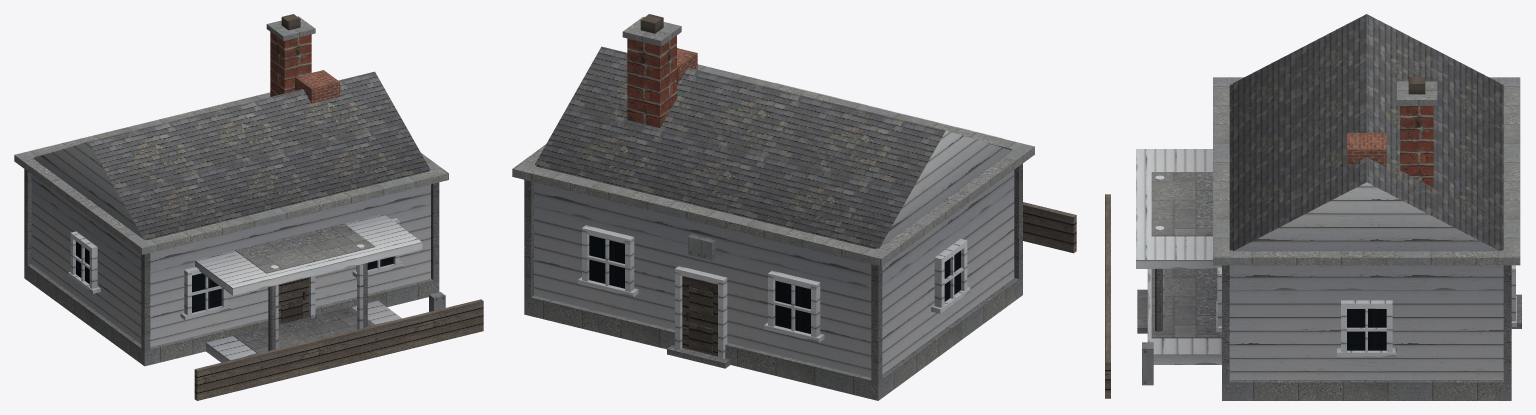
Rendered from tenant-cottage_lod0.gltf.
The picture shows the model from 3 angles, left to right: view 1: azimuth 30°, elevation 25°; view 2: azimuth 150°, elevation 25°; view 3: azimuth 270°, elevation 25°; orthographic projection. The views are drawn at different scales.
Parts seen in each view (by area): view 1: tenant-cottage_roof, tenant-cottage__v4_stone_detail, tenant-cottage_walls, tenant-cottage__fence, tenant-cottage_porch, tenant-cottage_gable_ends, tenant-cottage_fen_20-white-clapboard_0, tenant-cottage__v4_brick_detail, tenant-cottage_fen_07-glass-curtain-blue_4_t, tenant-cottage__chimney, tenant-cottage_fen_18-timber-siding_1, tenant-cottage_fen_18-timber-siding_2_t; view 2: tenant-cottage_roof, tenant-cottage_walls, tenant-cottage__v4_stone_detail, tenant-cottage_fen_20-white-clapboard_0, tenant-cottage_gable_ends, tenant-cottage__v4_brick_detail, tenant-cottage_fen_07-glass-curtain-blue_4_t, tenant-cottage__fence, tenant-cottage_fen_18-timber-siding_1, tenant-cottage_fen_18-timber-siding_2_t, tenant-cottage_fen_06-granite_5, tenant-cottage_fen_14-steel-panel_6; view 3: tenant-cottage_roof, tenant-cottage__v4_stone_detail, tenant-cottage_walls, tenant-cottage_gable_ends, tenant-cottage_porch, tenant-cottage__v4_brick_detail, tenant-cottage_fen_20-white-clapboard_0, tenant-cottage_fen_07-glass-curtain-blue_4_t, tenant-cottage__fence, tenant-cottage__chimney, tenant-cottage__mailbox.
Part boxes in pixels (x1=…): tenant-cottage_roof: x1=88, y1=71, x2=430, y2=240; tenant-cottage__v4_stone_detail: x1=14, y1=16, x2=448, y2=366; tenant-cottage_walls: x1=31, y1=174, x2=430, y2=346; tenant-cottage__fence: x1=194, y1=299, x2=483, y2=400; tenant-cottage_porch: x1=195, y1=214, x2=422, y2=362; tenant-cottage_gable_ends: x1=33, y1=141, x2=143, y2=239; tenant-cottage_fen_20-white-clapboard_0: x1=68, y1=218, x2=402, y2=320; tenant-cottage__v4_brick_detail: x1=270, y1=32, x2=311, y2=96; tenant-cottage_fen_07-glass-curtain-blue_4_t: x1=76, y1=241, x2=393, y2=312; tenant-cottage__chimney: x1=295, y1=70, x2=340, y2=103; tenant-cottage_fen_18-timber-siding_1: x1=278, y1=277, x2=309, y2=323; tenant-cottage_fen_18-timber-siding_2_t: x1=281, y1=279, x2=302, y2=323; tenant-cottage_roof: x1=535, y1=46, x2=945, y2=249; tenant-cottage_walls: x1=534, y1=170, x2=1014, y2=377; tenant-cottage__v4_stone_detail: x1=512, y1=17, x2=1034, y2=400; tenant-cottage_fen_20-white-clapboard_0: x1=578, y1=225, x2=970, y2=359; tenant-cottage_gable_ends: x1=879, y1=130, x2=1012, y2=247; tenant-cottage__v4_brick_detail: x1=627, y1=35, x2=676, y2=127; tenant-cottage_fen_07-glass-curtain-blue_4_t: x1=589, y1=235, x2=960, y2=333; tenant-cottage__fence: x1=1023, y1=202, x2=1076, y2=253; tenant-cottage_fen_18-timber-siding_1: x1=682, y1=276, x2=717, y2=356; tenant-cottage_fen_18-timber-siding_2_t: x1=689, y1=287, x2=712, y2=352; tenant-cottage_fen_06-granite_5: x1=667, y1=345, x2=730, y2=368; tenant-cottage_fen_14-steel-panel_6: x1=688, y1=234, x2=715, y2=260; tenant-cottage_roof: x1=1229, y1=14, x2=1503, y2=251; tenant-cottage__v4_stone_detail: x1=1137, y1=77, x2=1520, y2=400; tenant-cottage_walls: x1=1229, y1=265, x2=1503, y2=379; tenant-cottage_gable_ends: x1=1234, y1=182, x2=1499, y2=251; tenant-cottage_porch: x1=1136, y1=149, x2=1221, y2=364; tenant-cottage__v4_brick_detail: x1=1400, y1=106, x2=1433, y2=187; tenant-cottage_fen_20-white-clapboard_0: x1=1216, y1=265, x2=1516, y2=356; tenant-cottage_fen_07-glass-curtain-blue_4_t: x1=1347, y1=309, x2=1386, y2=350; tenant-cottage__fence: x1=1105, y1=194, x2=1110, y2=398; tenant-cottage__chimney: x1=1347, y1=133, x2=1386, y2=166; tenant-cottage__mailbox: x1=1142, y1=342, x2=1153, y2=385.
Size of the model in its own units: 10.72 by 7.79 by 10.47.
